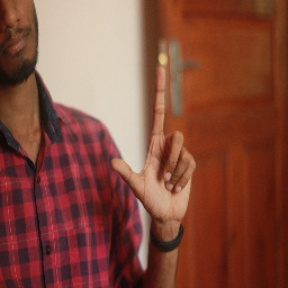L: (113, 64, 198, 220)
